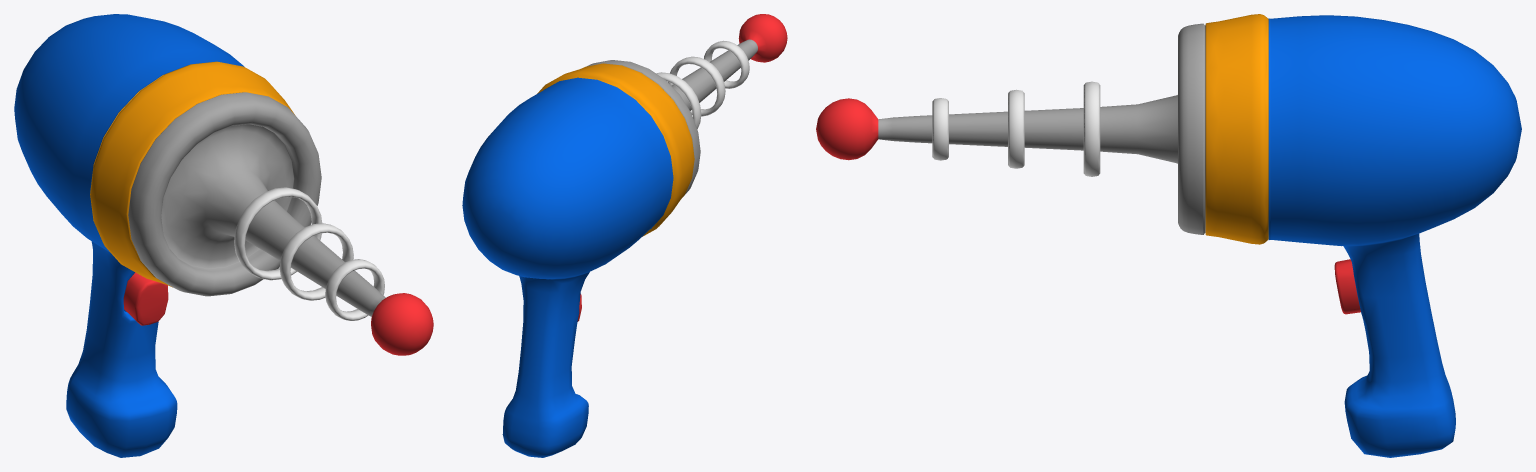
Rendered from RayGun.fbx.
3 views of the same model, side by side, from view 1: azimuth 30°, elevation 25°; view 2: azimuth 150°, elevation 25°; view 3: azimuth 270°, elevation 25° (orthographic). The views are drawn at different scales.
Parts seen in each view (by area): view 1: RayGun; view 2: RayGun; view 3: RayGun.
Boxes of the visible parts, left/top/right/bottom form: RayGun: left=14, top=14, right=433, bottom=457; RayGun: left=462, top=14, right=787, bottom=457; RayGun: left=816, top=14, right=1521, bottom=457.
Size of the model in its own units: 94.09 by 192 by 287.
